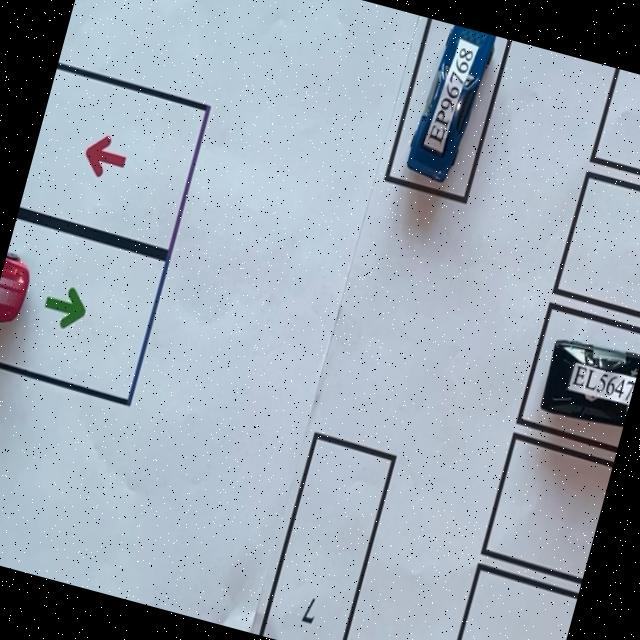car: (408, 25, 496, 182), (540, 341, 640, 427), (0, 256, 29, 322)
